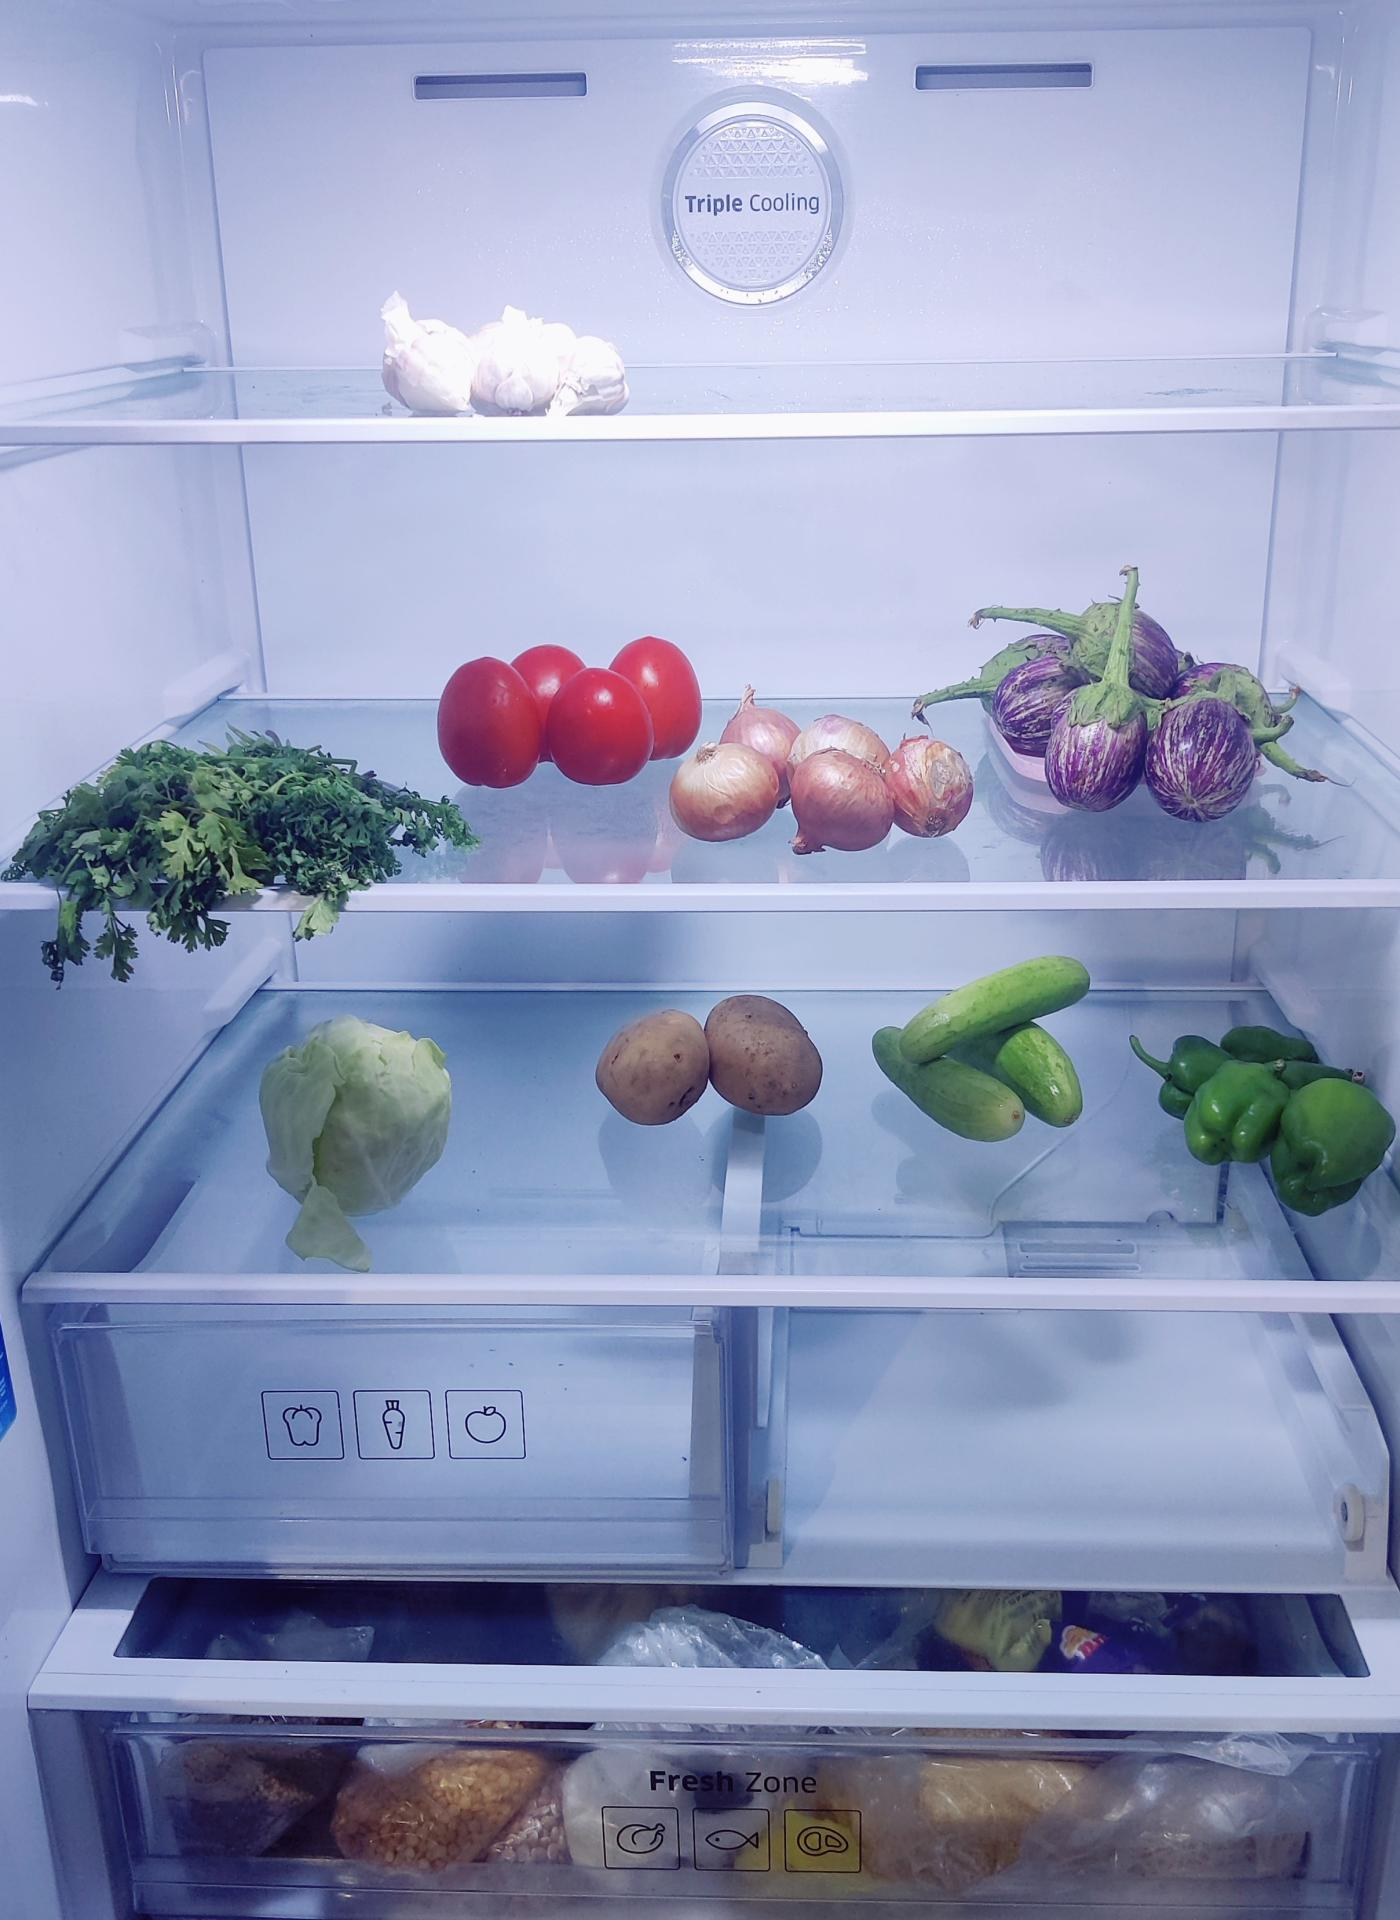brinjal: (968, 575, 1296, 821)
cabbage: (259, 1018, 450, 1216)
capsicum: (1155, 1021, 1397, 1212)
coriander: (21, 739, 461, 923)
cucumber: (872, 954, 1088, 1146)
onion: (672, 708, 977, 856)
potato: (601, 991, 832, 1125)
tomato: (434, 632, 701, 787)
